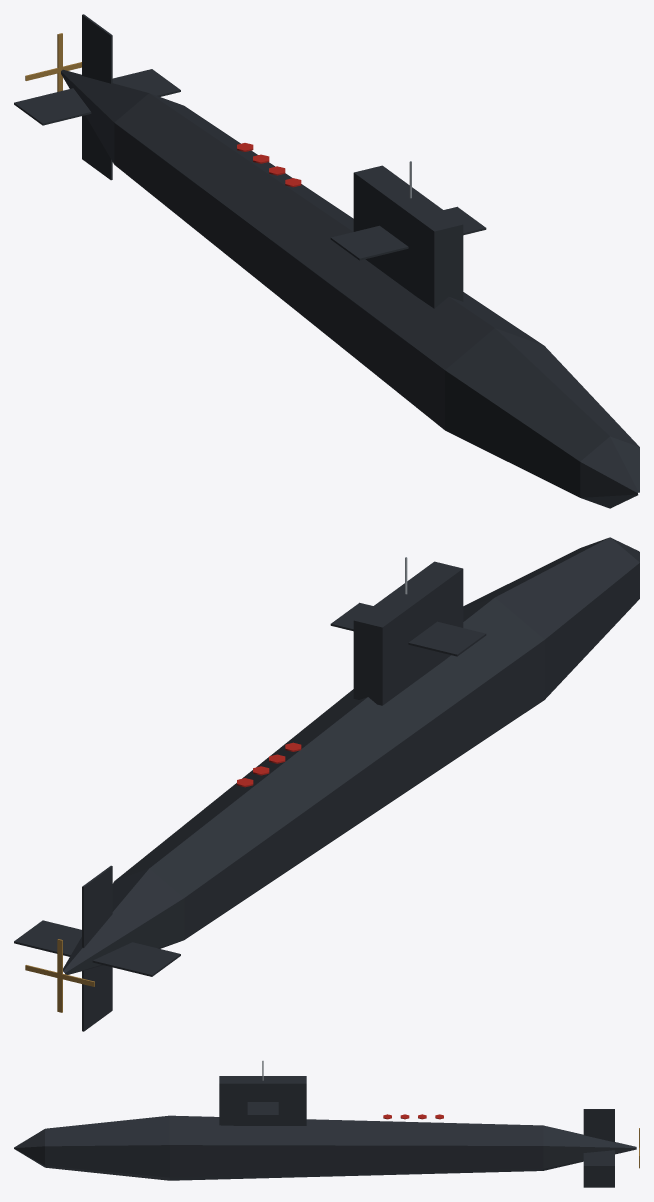
Rendered from veh_naval_submarine_a09_lod1.glb.
3 views of the same model, one above another, from view 1: azimuth 30°, elevation 25°; view 2: azimuth 150°, elevation 25°; view 3: azimuth 270°, elevation 25° (orthographic). The views are drawn at different scales.
Visible parts, largest first — view 1: body; view 2: body, propeller; view 3: body.
Boxes of the visible parts, <box> form: body: <box>14,14,639,508</box>; body: <box>14,537,639,1031</box>; propeller: <box>25,939,94,1012</box>; body: <box>14,1060,636,1187</box>.
Bounding box in the file's own units: 5.95 × 9.68 × 43.23.
